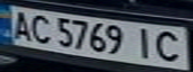5: (51, 15, 75, 48)
6: (87, 20, 109, 53)
7: (69, 17, 90, 52)
9: (103, 22, 130, 56)
A: (6, 8, 36, 42)
C: (151, 28, 190, 64), (27, 11, 54, 45)
I: (130, 25, 160, 60)
